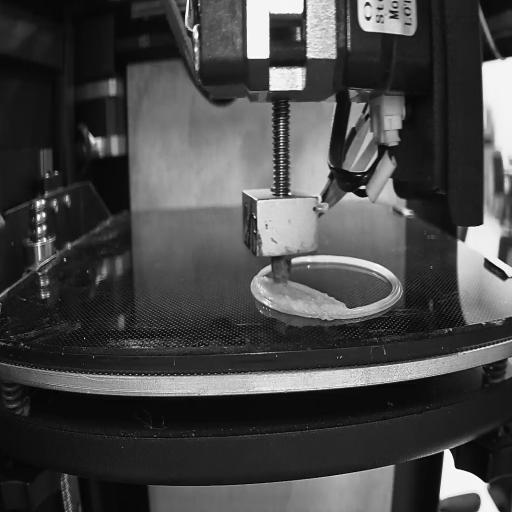over_extrusion: (289, 279, 342, 306), (254, 274, 267, 300)
